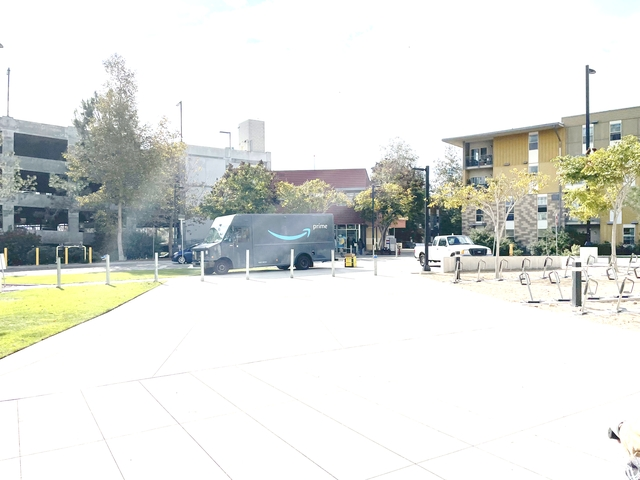Car: (191, 214, 337, 274), (413, 232, 495, 270), (172, 240, 212, 265)
